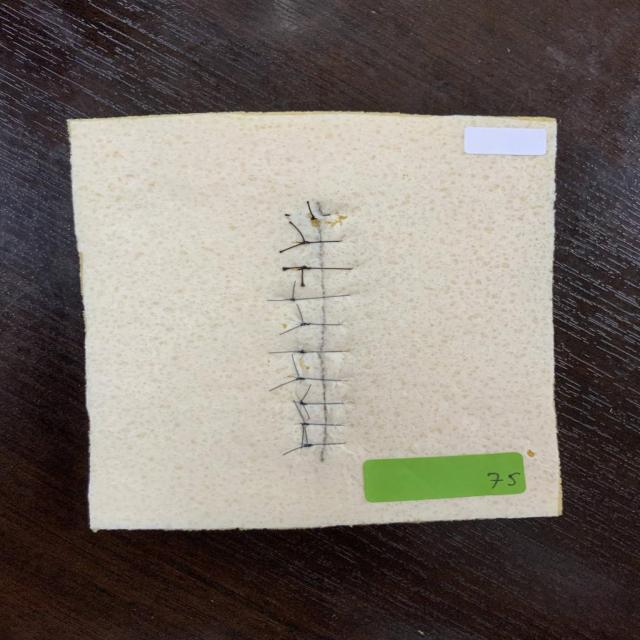knot: (298, 321, 314, 328), (299, 264, 314, 271), (301, 442, 315, 449), (294, 375, 308, 382), (296, 348, 309, 355), (297, 240, 312, 246), (298, 399, 309, 407), (308, 215, 320, 222), (299, 421, 312, 427), (288, 296, 297, 303)
leftover: (269, 378, 298, 392), (288, 221, 305, 243), (293, 400, 305, 424), (279, 324, 302, 335), (282, 446, 306, 456), (279, 243, 303, 253), (291, 354, 300, 379), (300, 384, 312, 402), (284, 214, 312, 220), (295, 304, 303, 325), (301, 403, 310, 419), (306, 200, 314, 218), (268, 350, 300, 354), (300, 424, 304, 449), (303, 427, 308, 446), (292, 280, 296, 300), (282, 267, 303, 270), (266, 299, 292, 301), (301, 268, 303, 286)
stitch: (290, 294, 350, 300), (297, 377, 341, 381), (299, 422, 342, 426), (299, 240, 341, 244), (300, 322, 341, 326), (298, 267, 352, 270), (297, 350, 346, 353), (308, 214, 331, 220), (301, 402, 344, 405), (303, 443, 342, 446)
wound: (317, 202, 327, 462)
